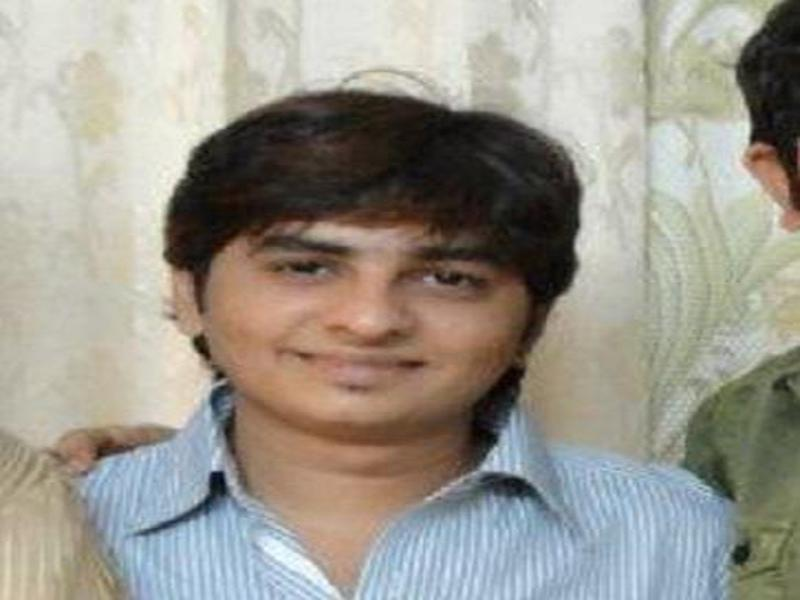without_mask: (200, 208, 530, 440)
